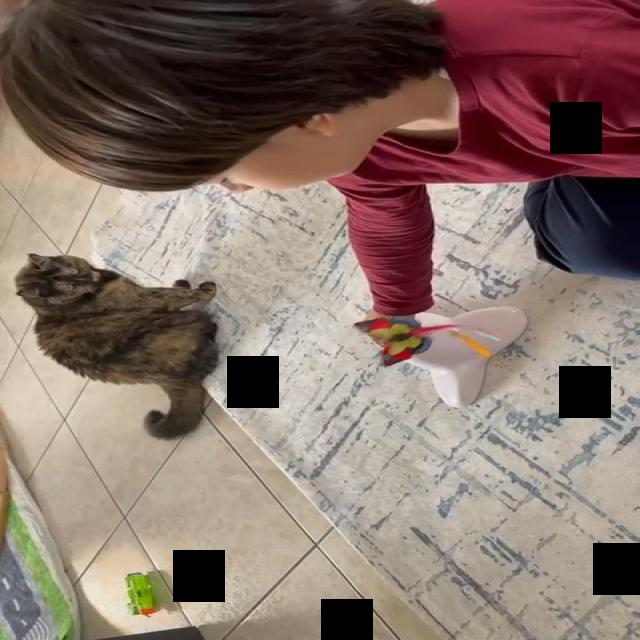authorized: (12, 252, 220, 440)
